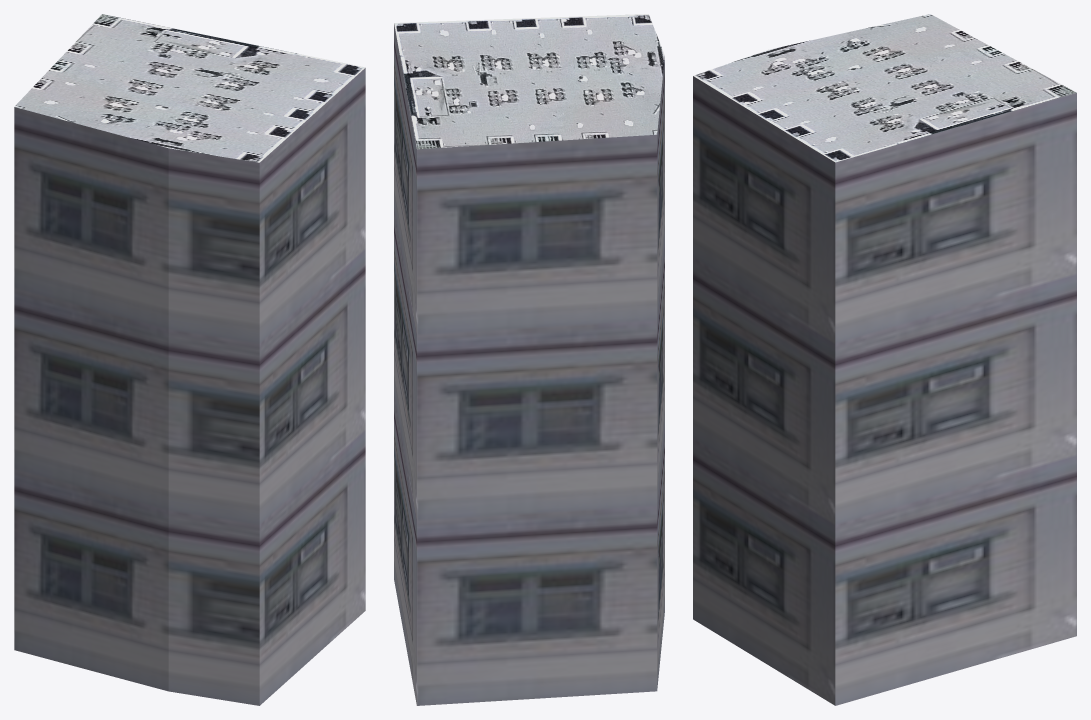
The model's file is ResTex__3074.fbx.
3 views of the same model, side by side, from view 1: azimuth 30°, elevation 25°; view 2: azimuth 150°, elevation 25°; view 3: azimuth 270°, elevation 25° (orthographic). The views are drawn at different scales.
Parts seen in each view (by area): view 1: CityEngineMaterial_1_m, CityEngineMaterial_8_m; view 2: CityEngineMaterial_1_m, CityEngineMaterial_8_m; view 3: CityEngineMaterial_1_m, CityEngineMaterial_8_m.
Part boxes in pixels (x1,y1,x2,y2): CityEngineMaterial_1_m: [14, 68, 365, 705]; CityEngineMaterial_8_m: [14, 14, 365, 162]; CityEngineMaterial_1_m: [394, 24, 664, 705]; CityEngineMaterial_8_m: [394, 14, 664, 149]; CityEngineMaterial_1_m: [693, 76, 1076, 705]; CityEngineMaterial_8_m: [693, 14, 1076, 162].
Size of the model in its own units: 5.27 by 9 by 5.76.
Materials: 2 (2 with a texture image).
